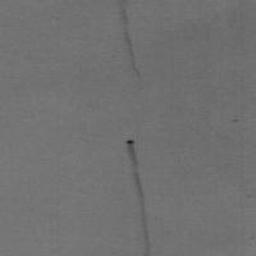Inclusion: (124, 137, 152, 256), (118, 0, 145, 82)
